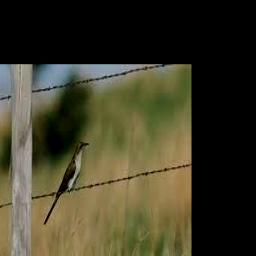Cuckoo: (44, 140, 90, 225)
